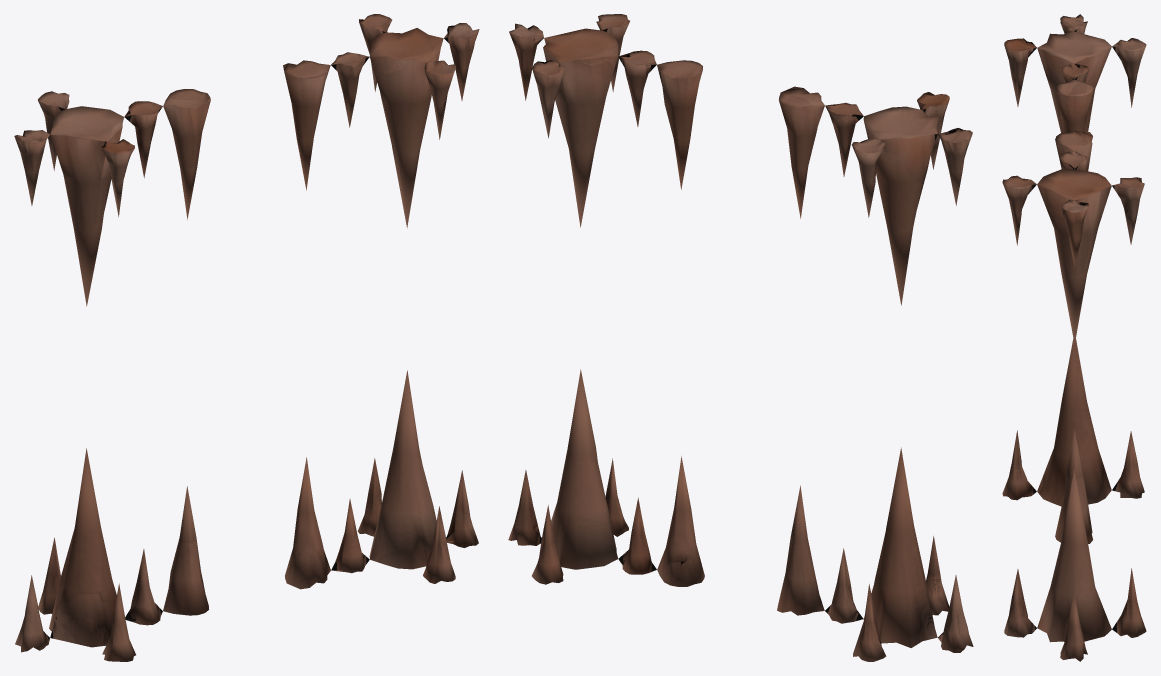
Rendered from Est.Estg.fbx.
The picture shows the model from 3 angles, left to right: view 1: azimuth 30°, elevation 25°; view 2: azimuth 150°, elevation 25°; view 3: azimuth 270°, elevation 25°; orthographic projection. The views are drawn at different scales.
Parts seen in each view (by area): view 1: Est.Estg; view 2: Est.Estg; view 3: Est.Estg.
Part boxes in pixels (bbox=[...]): Est.Estg: bbox=[14, 14, 479, 661]; Est.Estg: bbox=[508, 14, 973, 661]; Est.Estg: bbox=[1002, 14, 1146, 661].
Bounding box in the file's own units: 1462 × 1557 × 451.
1 material, 1 textured.
